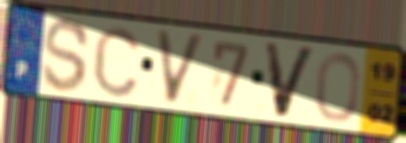7: (211, 39, 250, 109)
C: (89, 23, 143, 100)
O: (314, 50, 363, 124)
S: (40, 15, 93, 95)
V: (261, 39, 320, 120), (153, 27, 207, 108)
